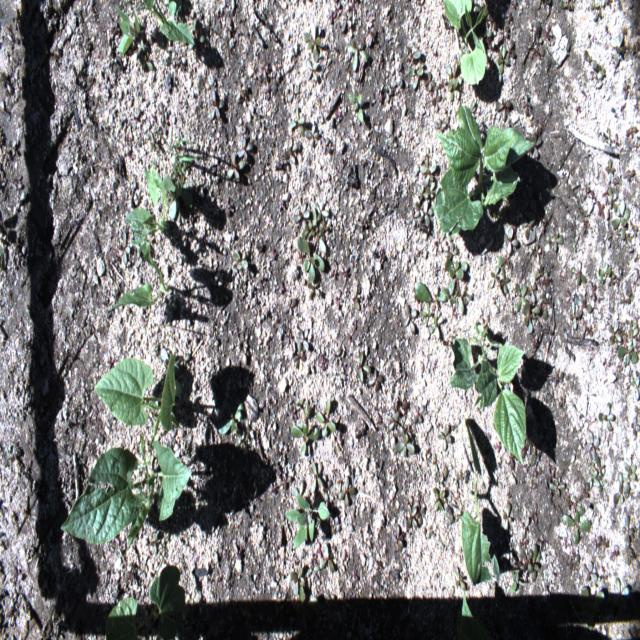crop: (60, 435, 192, 550), (434, 106, 534, 237), (450, 322, 526, 466), (94, 353, 182, 454), (102, 564, 186, 638), (125, 166, 176, 257), (107, 238, 169, 312), (460, 474, 500, 588), (444, 1, 486, 86), (120, 1, 194, 46), (458, 595, 483, 637)
weed: (285, 480, 331, 550), (115, 4, 155, 70), (414, 280, 451, 341), (561, 494, 591, 545), (444, 258, 468, 316), (297, 238, 324, 284), (168, 154, 186, 222), (580, 586, 606, 632), (616, 322, 637, 368), (218, 402, 244, 439), (290, 424, 318, 457), (611, 200, 631, 240), (304, 21, 322, 65), (302, 205, 322, 244), (316, 399, 336, 438), (292, 201, 310, 240), (610, 29, 628, 68), (346, 42, 369, 72), (614, 470, 632, 506), (227, 150, 246, 184), (488, 250, 505, 288), (484, 7, 501, 45), (444, 61, 459, 103), (522, 300, 540, 335), (346, 91, 364, 124), (290, 567, 306, 604), (406, 501, 426, 530), (209, 88, 225, 123), (338, 478, 358, 506), (387, 411, 407, 439), (319, 542, 335, 576), (504, 226, 521, 258), (420, 155, 436, 189), (358, 347, 372, 385), (415, 200, 434, 228), (394, 434, 416, 458), (598, 401, 615, 432), (238, 134, 256, 163), (366, 363, 384, 392), (290, 105, 306, 137), (569, 260, 589, 285), (403, 300, 417, 335), (528, 542, 540, 582), (520, 209, 535, 241), (622, 514, 635, 550), (515, 282, 529, 315), (595, 261, 615, 284), (284, 138, 301, 165), (310, 461, 324, 493), (116, 232, 129, 266), (527, 130, 542, 159), (438, 422, 452, 453), (585, 433, 599, 464), (568, 302, 583, 330), (548, 478, 567, 500), (547, 230, 565, 253), (518, 547, 534, 572), (496, 98, 512, 123), (573, 293, 593, 313), (406, 67, 424, 89), (496, 46, 508, 78), (433, 485, 446, 514), (313, 200, 330, 222), (621, 532, 632, 566), (493, 24, 510, 46), (392, 524, 404, 555), (232, 249, 248, 272), (502, 501, 512, 537), (305, 126, 321, 148), (590, 64, 606, 86), (454, 564, 466, 592), (583, 561, 598, 583), (608, 320, 622, 343), (510, 572, 526, 592), (505, 38, 516, 67), (582, 49, 597, 70), (294, 342, 306, 368), (615, 577, 629, 599), (444, 242, 458, 264), (236, 79, 248, 104), (341, 9, 353, 34), (500, 268, 510, 298), (423, 73, 437, 94), (405, 210, 420, 229), (306, 59, 318, 82), (526, 283, 537, 308), (587, 471, 602, 488), (412, 405, 424, 425), (608, 186, 617, 212), (606, 158, 615, 183), (417, 184, 428, 204), (565, 289, 576, 309), (628, 328, 639, 348), (588, 280, 597, 301), (631, 377, 639, 400), (589, 0, 599, 18), (596, 199, 604, 218), (560, 1, 575, 10)
